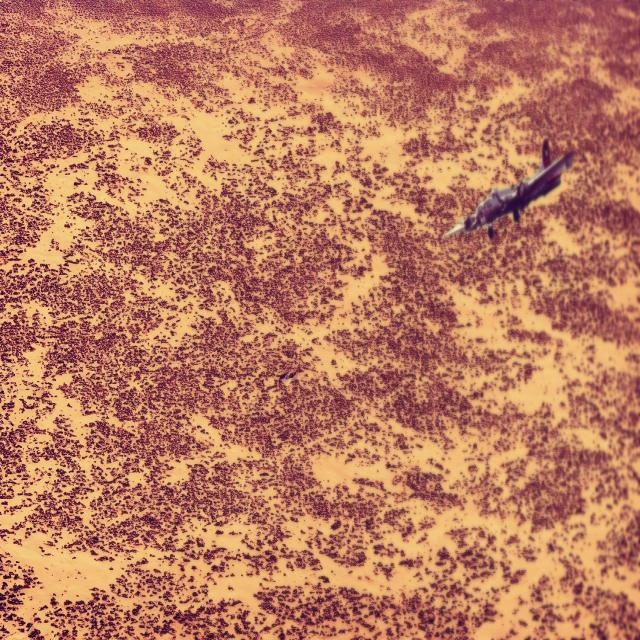airplane: (443, 136, 575, 241)
